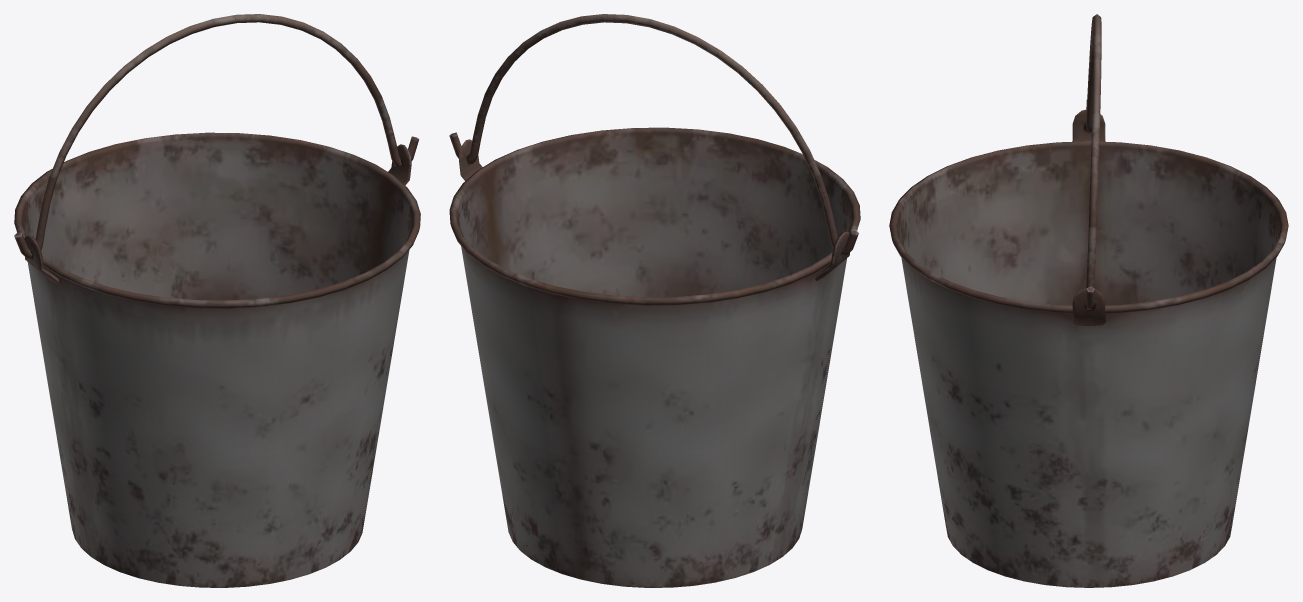
The model's file is bucket.glb.
3 views of the same model, side by side, from view 1: azimuth 30°, elevation 25°; view 2: azimuth 150°, elevation 25°; view 3: azimuth 270°, elevation 25° (orthographic). The views are drawn at different scales.
Parts seen in each view (by area): view 1: bucket; view 2: bucket; view 3: bucket.
Part boxes in pixels (x1=…): bucket: x1=14, y1=14, x2=420, y2=587; bucket: x1=449, y1=14, x2=860, y2=587; bucket: x1=889, y1=14, x2=1288, y2=587.
Size of the model in its own units: 0.2841 by 0.34 by 0.2488.
1 material, 1 textured.
